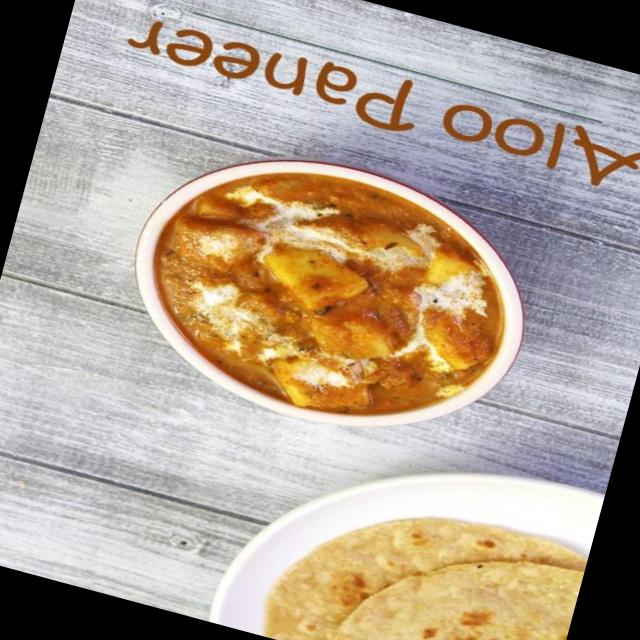roti: (314, 525, 579, 640)
